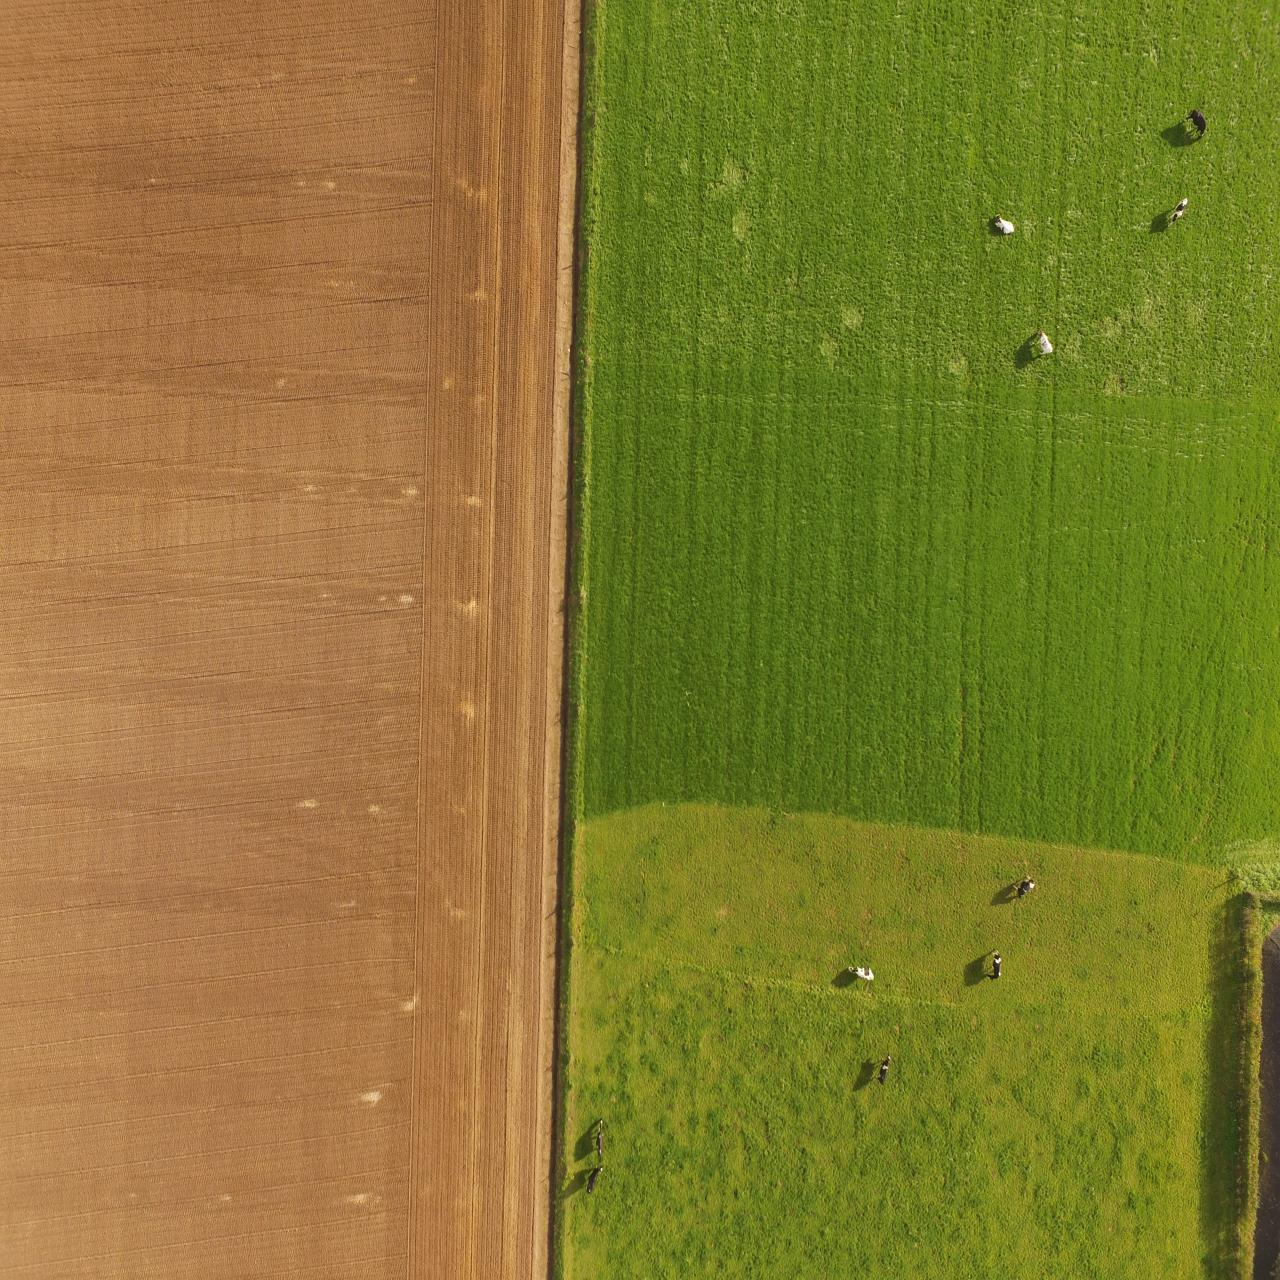cow: (1184, 103, 1210, 138), (1166, 192, 1190, 227), (1012, 873, 1039, 900), (585, 1164, 605, 1196), (1034, 327, 1054, 358), (987, 946, 1003, 982), (593, 1116, 606, 1160), (846, 962, 877, 981), (877, 1053, 892, 1087), (993, 212, 1015, 234)
